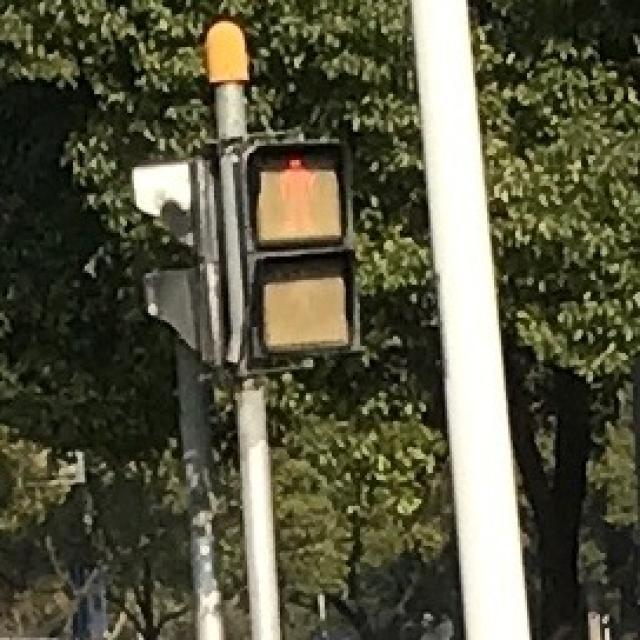red-crossing: (254, 144, 339, 242)
